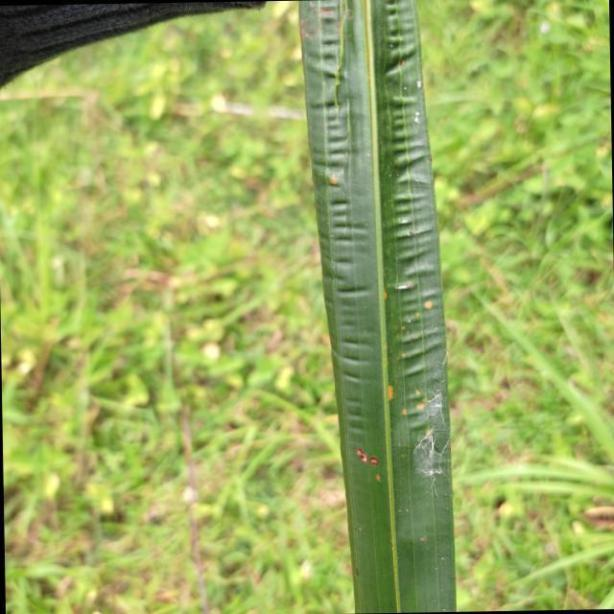Boron: (301, 0, 456, 614)
